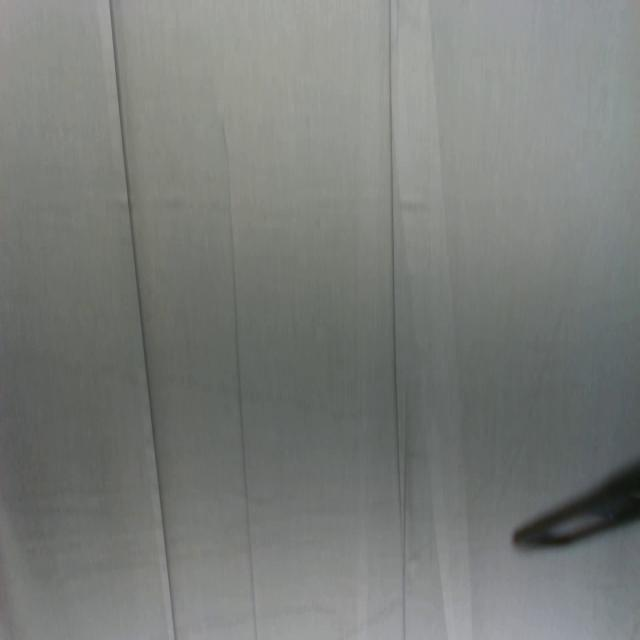crease: (96, 0, 178, 640), (220, 121, 260, 640), (387, 0, 410, 640)
